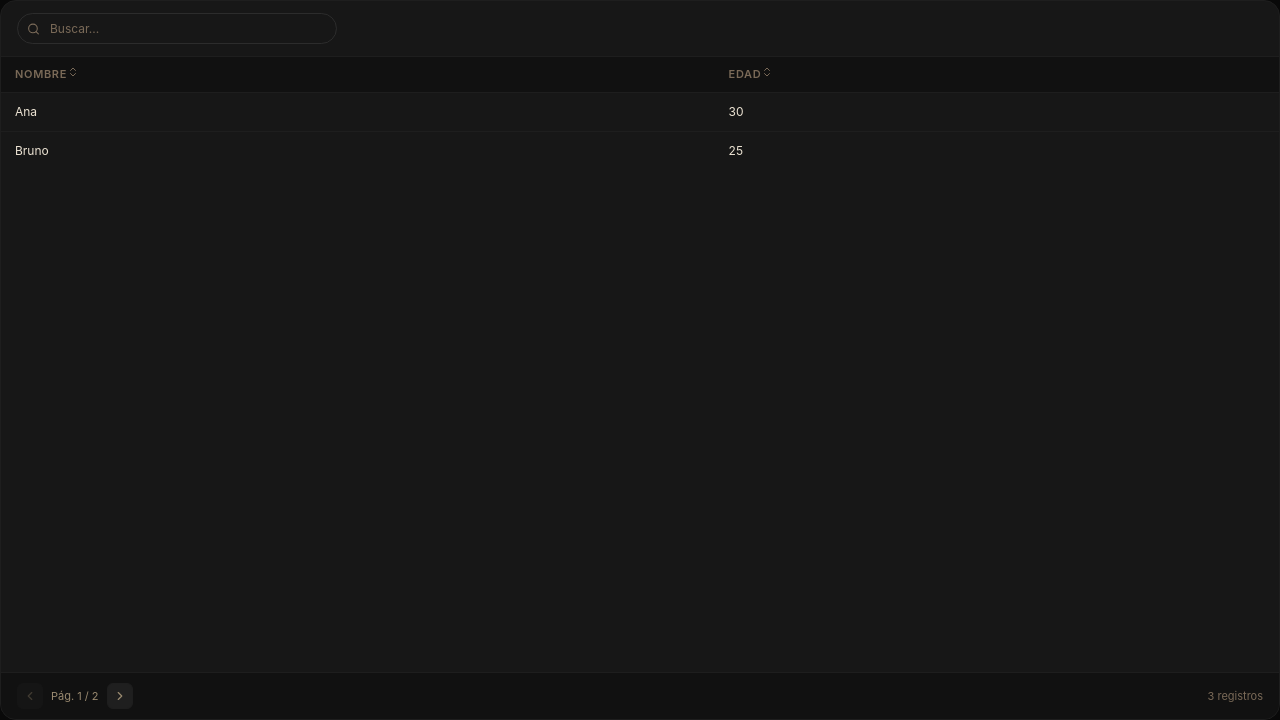
Test case: DataTable › pagination: advancing to the next page reveals the remaining rows
What coordinates should you click on to do the following:
click the button named "Página siguiente"
I would click on:
 (120, 696)
Its box is [106,683,132,709].
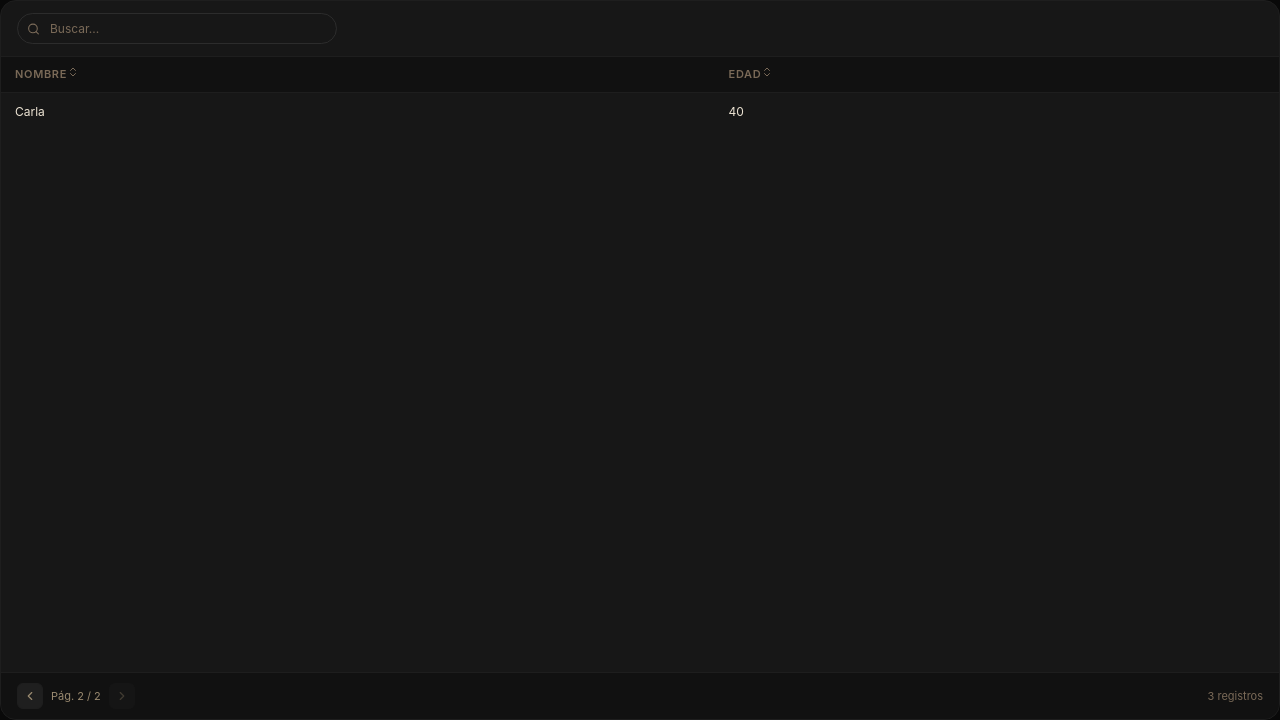
Expected: the text "Carla" is shown, [1,92,715,130]
